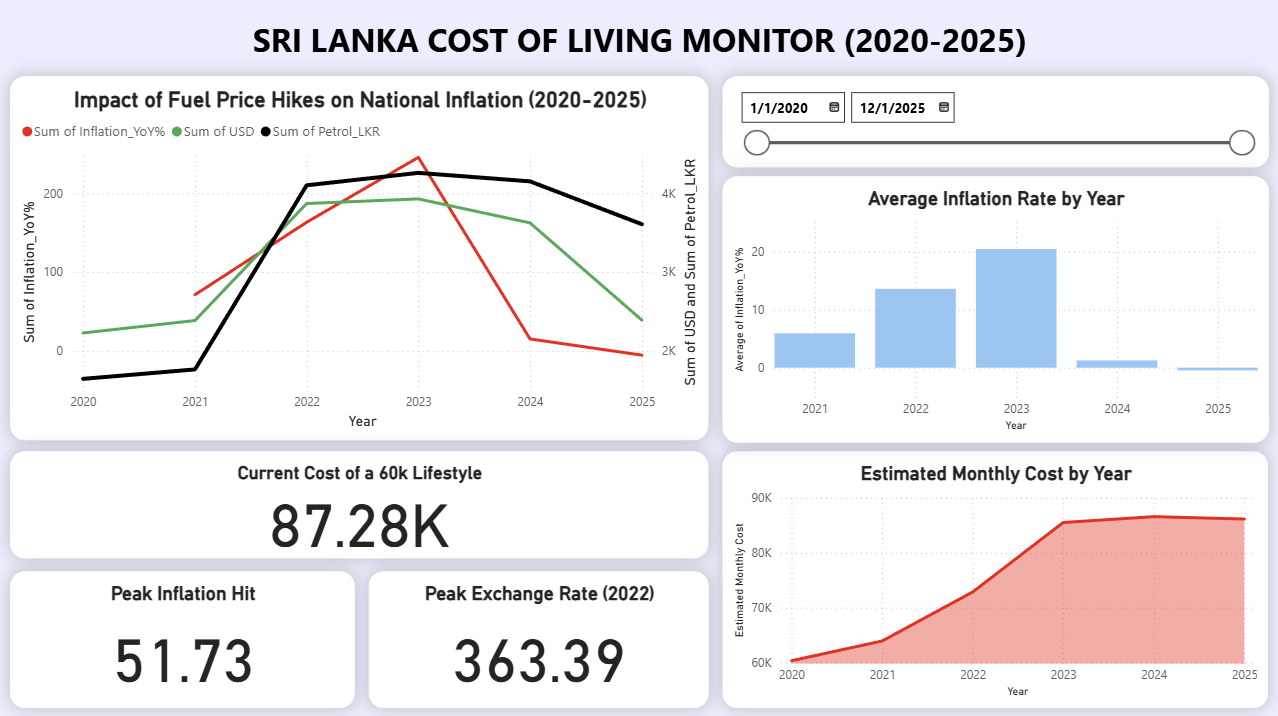

What the dashboard file says about the page in this screenshot:
{"tool":"powerbi","page":{"name":"Page 1","canvas":[1280,720],"ordinal":0},"visuals":[{"type":"lineChart","title":"Impact of Fuel Price Hikes on National Inflation (2020-2025)","fields":{"Category":["SriLanka_Cost_of_Living_MASTER.Date.Variation.Date Hierarchy.Year","SriLanka_Cost_of_Living_MASTER.Date.Variation.Date Hierarchy.Quarter","SriLanka_Cost_of_Living_MASTER.Date.Variation.Date Hierarchy.Month","SriLanka_Cost_of_Living_MASTER.Date.Variation.Date Hierarchy.Day"],"Y":["Sum(SriLanka_Cost_of_Living_MASTER.Inflation_YoY%)"],"Y2":["Sum(SriLanka_Cost_of_Living_MASTER.USD)","Sum(SriLanka_Cost_of_Living_MASTER.Petrol_LKR)"]},"box":[10,75.7,698.6,364.3],"z":0},{"type":"slicer","title":"Date","fields":{"Values":["SriLanka_Cost_of_Living_MASTER.Date"]},"box":[722.5,76.2,546.2,91.2],"z":1000},{"type":"card","title":"Current Cost of a 60k Lifestyle","fields":{"Values":["SriLanka_Cost_of_Living_MASTER.Estimated Monthly Cost"]},"box":[10,451.4,698.6,107.1],"z":2000},{"type":"areaChart","fields":{"Category":["SriLanka_Cost_of_Living_MASTER.Date.Variation.Date Hierarchy.Year","SriLanka_Cost_of_Living_MASTER.Date.Variation.Date Hierarchy.Quarter","SriLanka_Cost_of_Living_MASTER.Date.Variation.Date Hierarchy.Month","SriLanka_Cost_of_Living_MASTER.Date.Variation.Date Hierarchy.Day"],"Y":["SriLanka_Cost_of_Living_MASTER.Estimated Monthly Cost"]},"box":[722.9,451.4,545.7,257.1],"z":3000},{"type":"clusteredColumnChart","title":"Average Inflation Rate by Year","fields":{"Category":["SriLanka_Cost_of_Living_MASTER.Date.Variation.Date Hierarchy.Year","SriLanka_Cost_of_Living_MASTER.Date.Variation.Date Hierarchy.Quarter","SriLanka_Cost_of_Living_MASTER.Date.Variation.Date Hierarchy.Month","SriLanka_Cost_of_Living_MASTER.Date.Variation.Date Hierarchy.Day"],"Y":["Avg(SriLanka_Cost_of_Living_MASTER.Inflation_YoY%)"]},"box":[722.5,176.2,546.2,266.2],"z":4000},{"type":"card","title":"Peak Inflation Hit","fields":{"Values":["Sum(SriLanka_Cost_of_Living_MASTER.Inflation_YoY%)"]},"box":[10,571.4,345,137.1],"z":5000},{"type":"card","title":"Peak Exchange Rate (2022)","fields":{"Values":["Sum(SriLanka_Cost_of_Living_MASTER.USD)"]},"box":[368.6,571.4,340,137.1],"z":6000},{"type":"textbox","box":[0,12.5,1280,53.8],"z":7000}]}

Visuals, with their boxes in screenshot pixels (x1, y1, x2, y2), scaled from the page's 1280x720 canvas onto the 1278x716 screenshot:
"Impact of Fuel Price Hikes on National Inflation (2020-2025)" lineChart: bbox=(10, 75, 707, 438)
"Date" slicer: bbox=(721, 76, 1267, 166)
"Current Cost of a 60k Lifestyle" card: bbox=(10, 449, 707, 555)
areaChart - SriLanka_Cost_of_Living_MASTER.Date.Variation.Date Hierarchy.Year x SriLanka_Cost_of_Living_MASTER.Date.Variation.Date Hierarchy.Quarter: bbox=(722, 449, 1267, 705)
"Average Inflation Rate by Year" clusteredColumnChart: bbox=(721, 175, 1267, 440)
"Peak Inflation Hit" card: bbox=(10, 568, 354, 705)
"Peak Exchange Rate (2022)" card: bbox=(368, 568, 707, 705)
textbox: bbox=(0, 12, 1277, 66)
